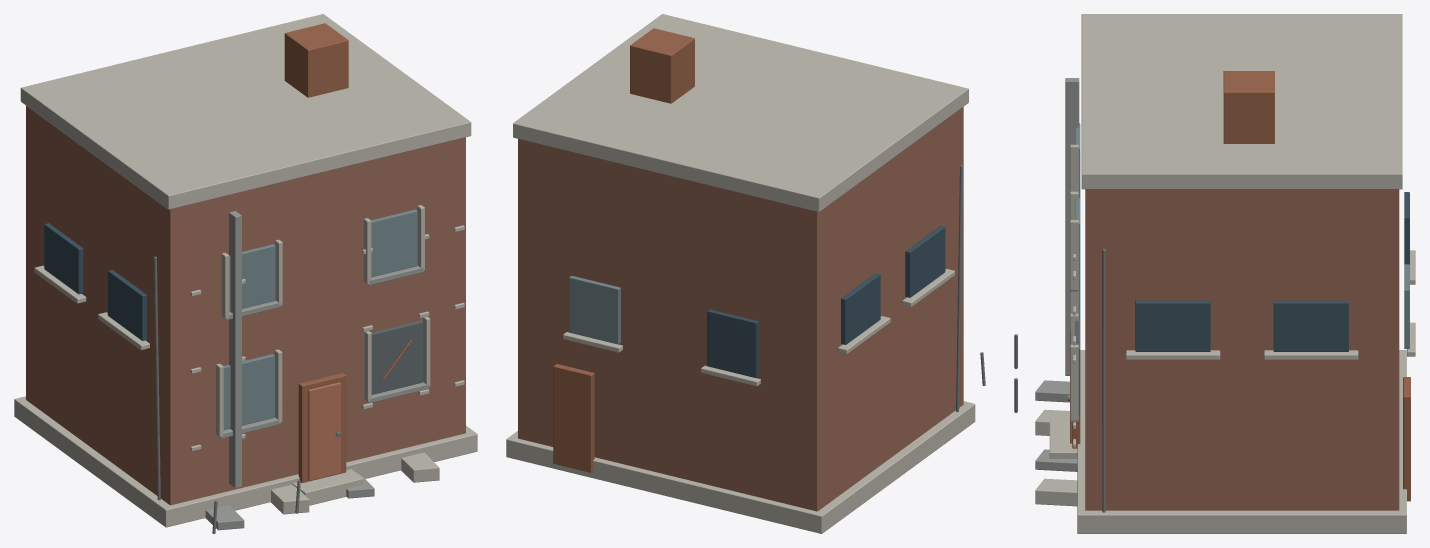
File: Apoc_House_01_Brick_Rowhouse.fbx
The picture shows the model from 3 angles, left to right: view 1: azimuth 30°, elevation 25°; view 2: azimuth 150°, elevation 25°; view 3: azimuth 270°, elevation 25°; orthographic projection. The views are drawn at different scales.
Parts seen in each view (by area): view 1: Apoc_House_01_Brick_Rowhouse; view 2: Apoc_House_01_Brick_Rowhouse; view 3: Apoc_House_01_Brick_Rowhouse.
Part boxes in pixels (x1,y1,x2,y2): Apoc_House_01_Brick_Rowhouse: (14, 14, 477, 533); Apoc_House_01_Brick_Rowhouse: (506, 14, 985, 533); Apoc_House_01_Brick_Rowhouse: (1014, 14, 1415, 533).
Size of the model in its own units: 5.56 by 6.34 by 5.62.
